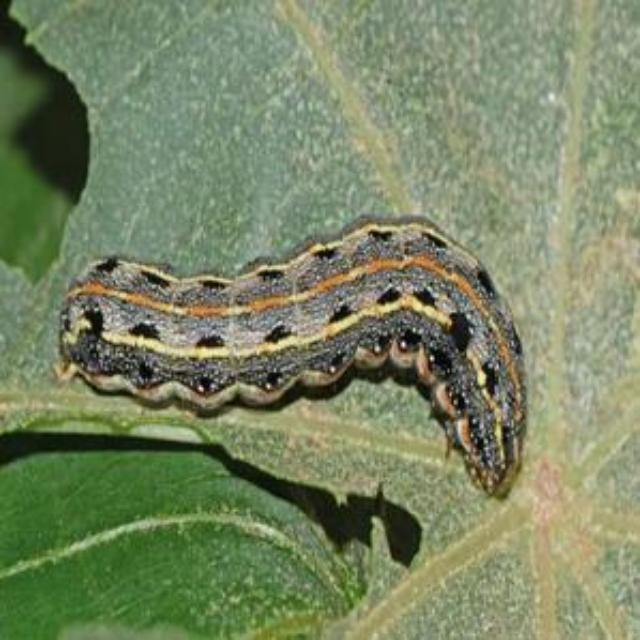Tobacco cutworm: (32, 190, 564, 550)
